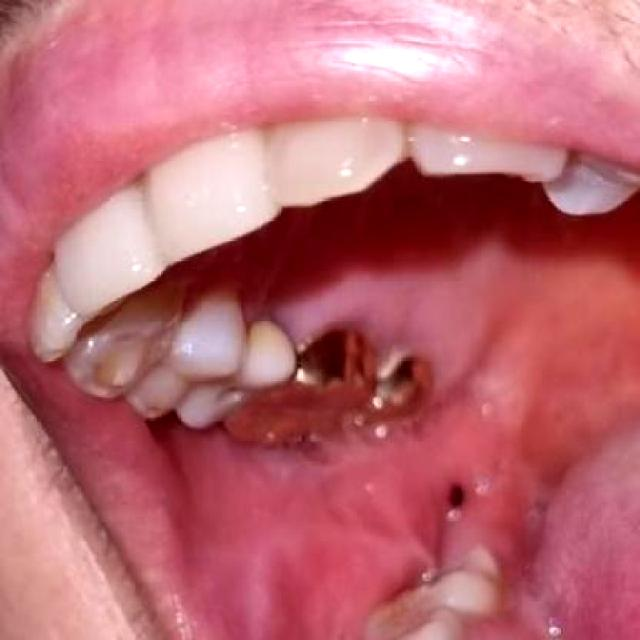Plaque: (243, 283, 434, 380)
